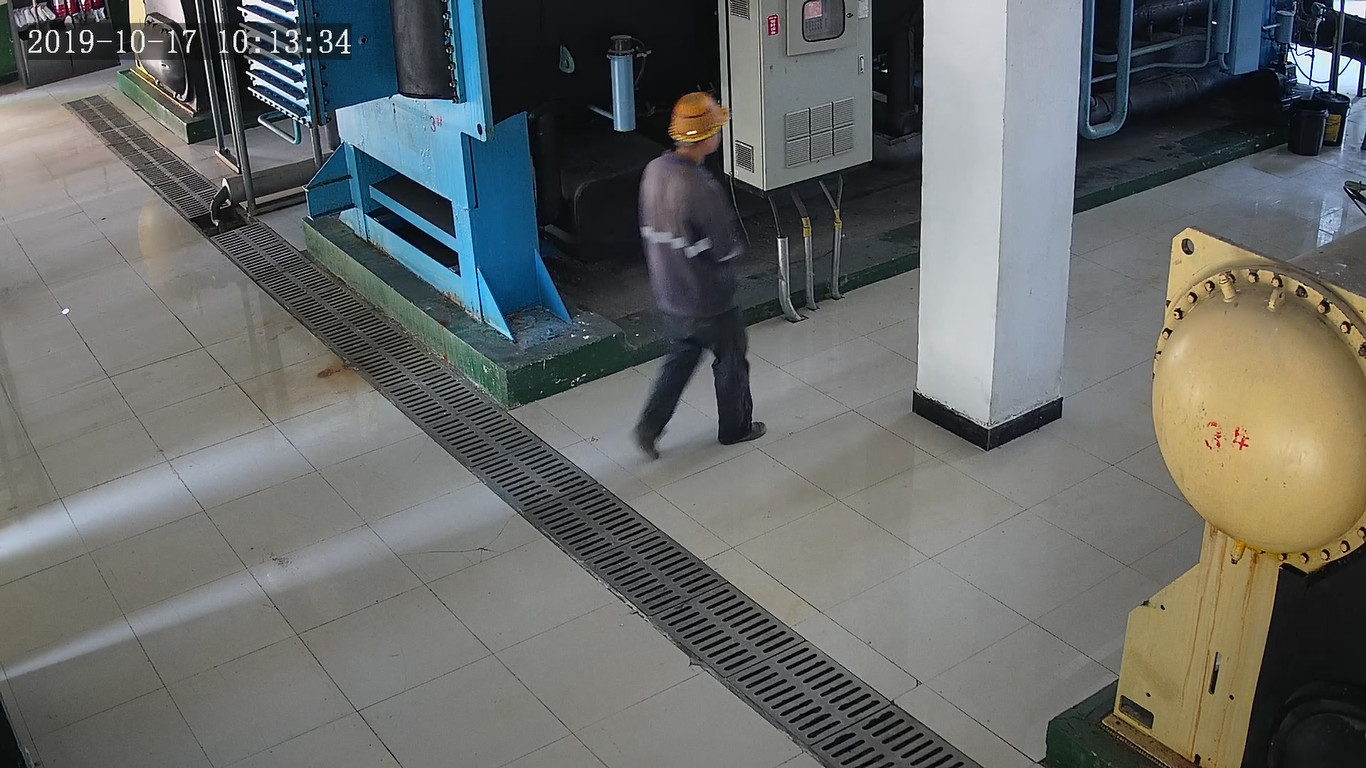helmet: (667, 92, 729, 142)
